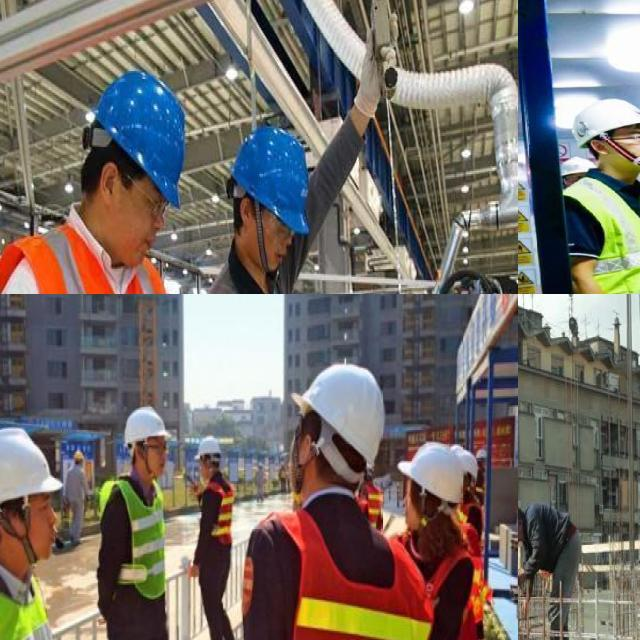No_Ear-Protection: (96, 155, 119, 205), (237, 192, 254, 231)
face_nomask: (101, 171, 167, 272), (16, 494, 69, 566), (250, 206, 296, 277), (138, 434, 168, 486), (610, 126, 640, 163)
hand_glove: (350, 6, 405, 119)
hand_noglove: (186, 555, 202, 582)
head_helmet: (96, 72, 193, 202), (298, 361, 381, 464), (237, 126, 312, 232), (0, 426, 66, 507), (398, 439, 463, 500), (577, 92, 640, 141), (118, 400, 168, 440), (458, 444, 480, 483), (557, 155, 597, 175), (195, 430, 223, 455), (74, 449, 86, 461)
person: (243, 351, 431, 640), (3, 57, 196, 294), (97, 399, 185, 640), (204, 121, 323, 294), (0, 418, 78, 640), (395, 445, 479, 640), (557, 99, 640, 294), (189, 428, 242, 640), (518, 506, 586, 638), (461, 444, 492, 569), (364, 484, 384, 524)
vest: (244, 509, 423, 640), (100, 478, 170, 614), (565, 180, 640, 294), (414, 529, 481, 640), (198, 478, 239, 544), (466, 497, 486, 603), (368, 484, 387, 517)
